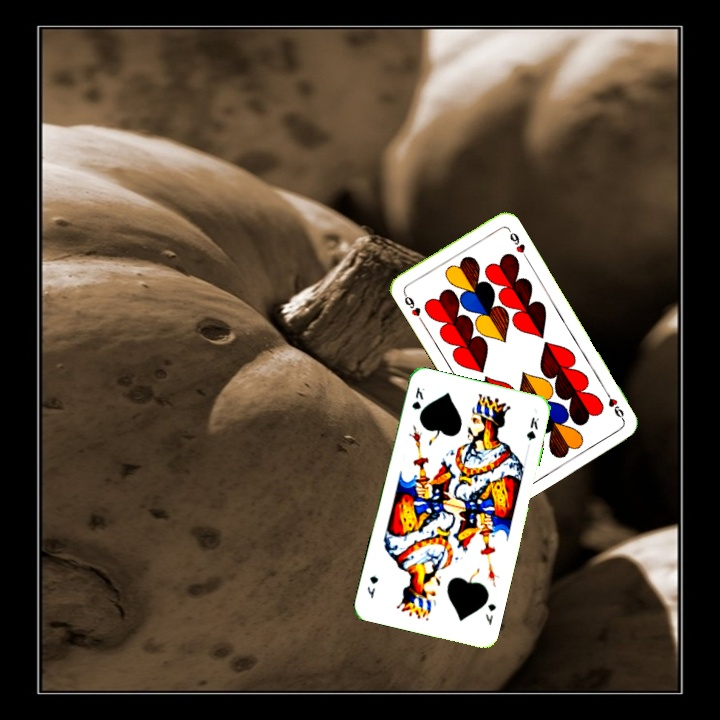GK: (408, 383, 427, 412), (481, 600, 499, 627)
H9: (399, 288, 425, 325), (601, 386, 627, 423)
